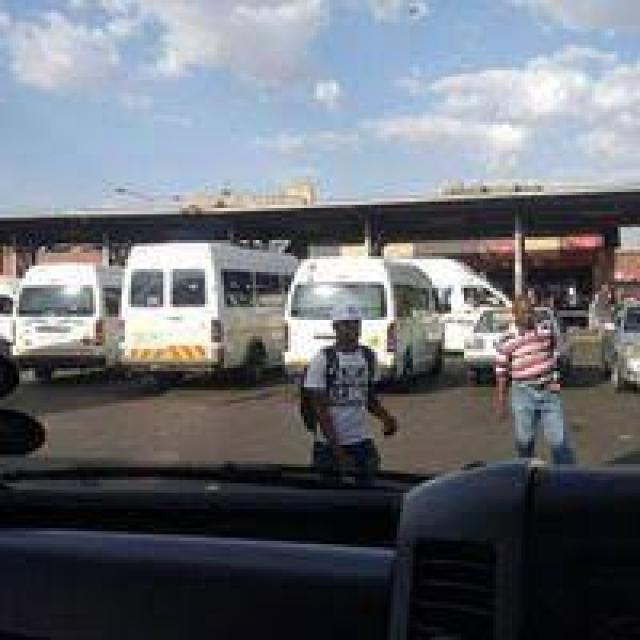MiniBus taxi: (125, 240, 246, 384), (13, 262, 118, 374)
Pedestrians: (474, 285, 592, 486), (304, 301, 406, 480)
